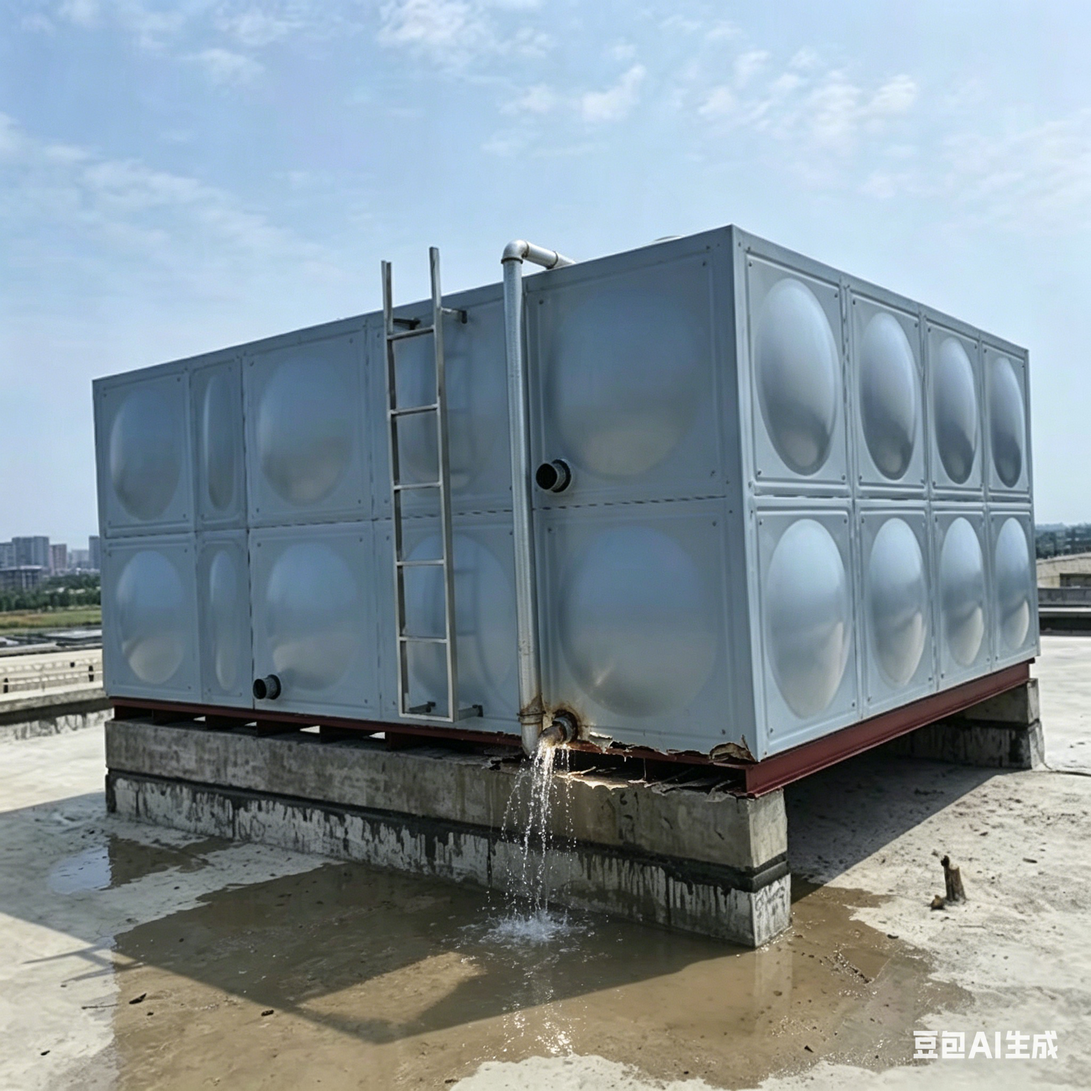Leakage: (616, 911, 963, 1091), (128, 937, 487, 1085), (497, 710, 604, 1053), (221, 878, 495, 933), (48, 840, 164, 906)
